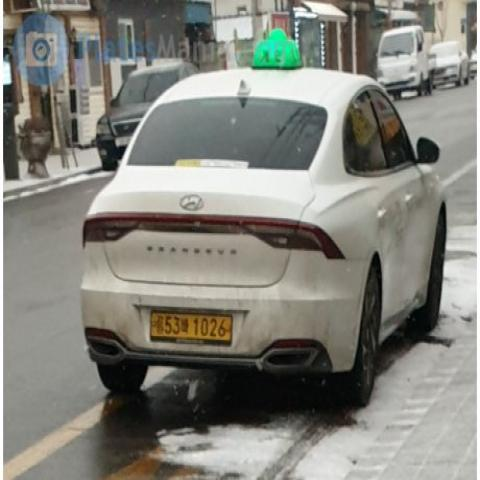LP: (144, 298, 238, 354)
